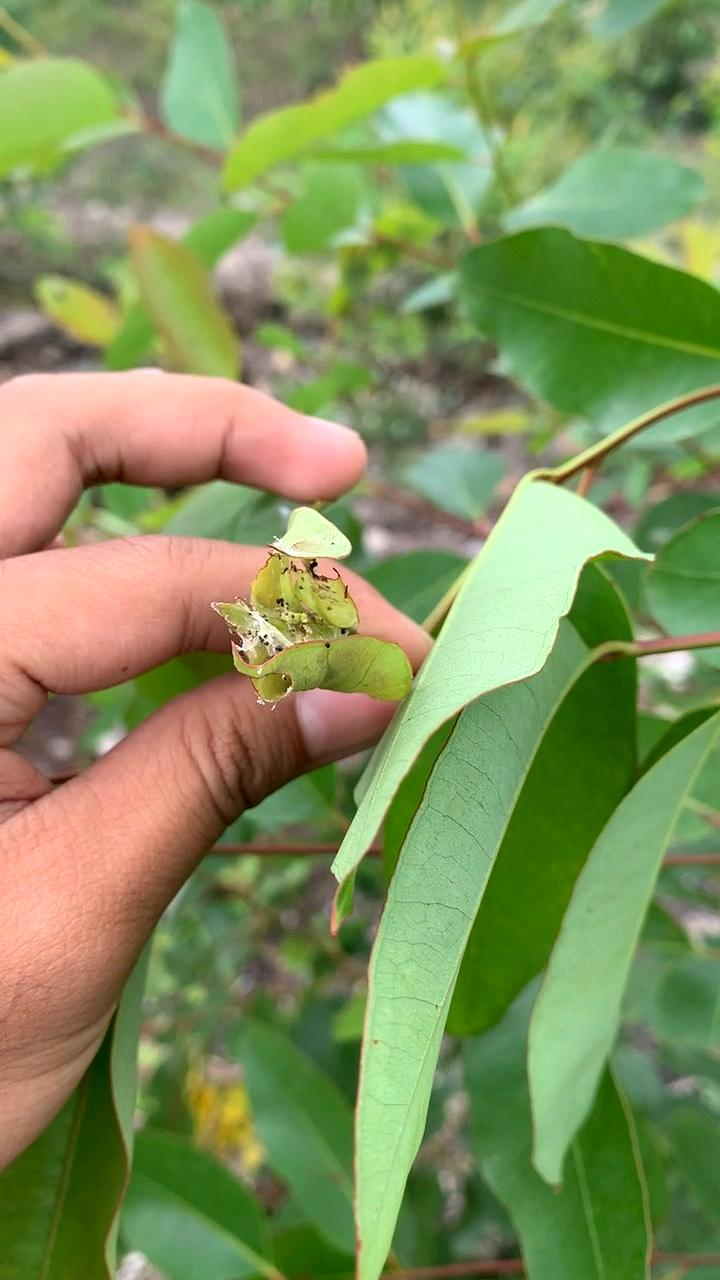Leaf Roller - Leaf: (185, 486, 441, 763)
